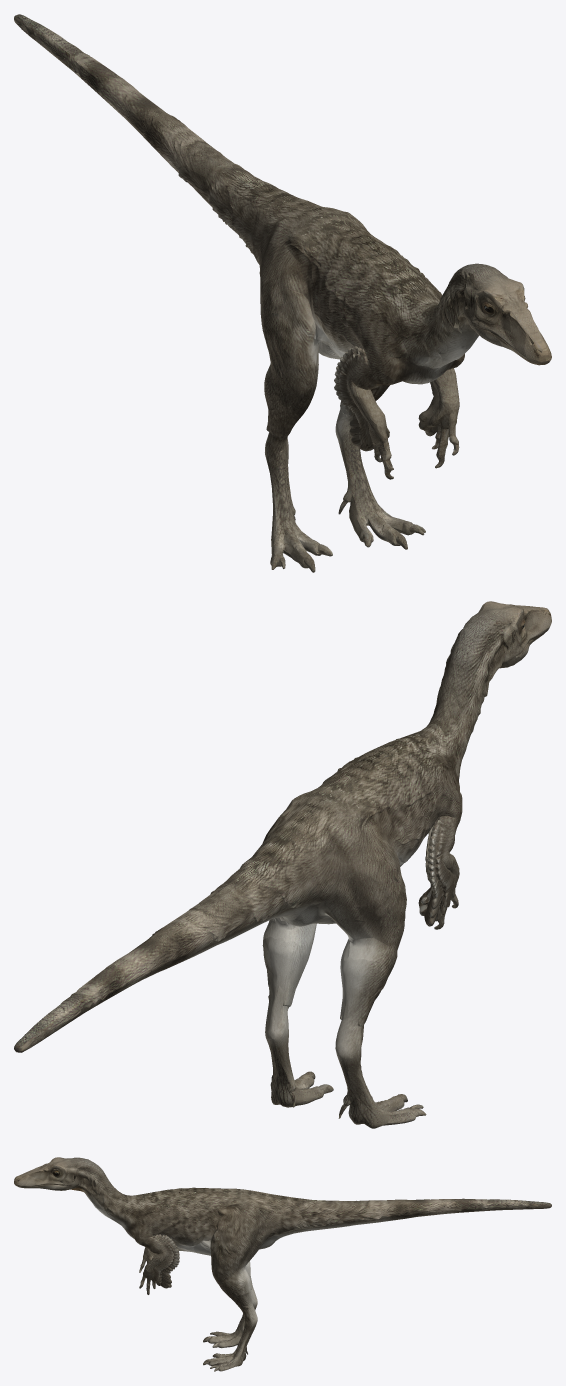
Rendered from compsognathus_i2m_v1.glb.
3 renders of one model, top to bottom at view 1: azimuth 30°, elevation 25°; view 2: azimuth 150°, elevation 25°; view 3: azimuth 270°, elevation 25°, orthographic. The views are drawn at different scales.
Visible parts, largest first — view 1: Mesh_0; view 2: Mesh_0; view 3: Mesh_0.
Part boxes in pixels (bbox=[...]): Mesh_0: bbox=[14, 14, 551, 572]; Mesh_0: bbox=[14, 601, 551, 1128]; Mesh_0: bbox=[14, 1157, 551, 1371].
Size of the model in its own units: 0.3185 by 0.7625 by 1.9.
1 material, 1 textured.
